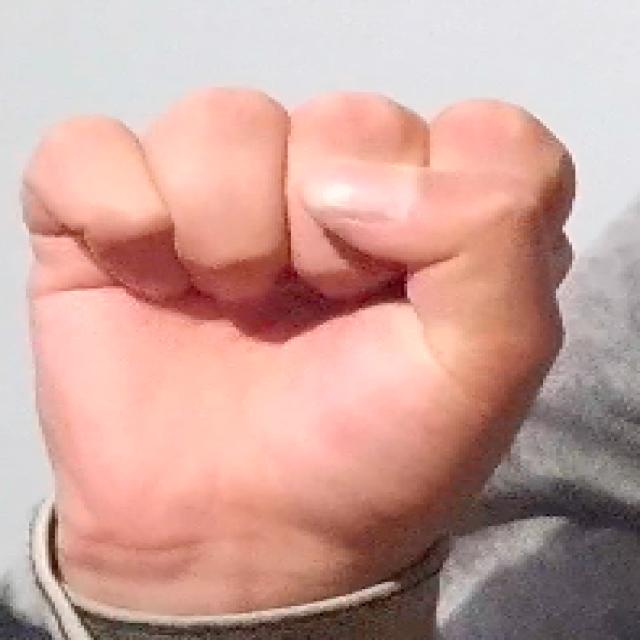S: (13, 81, 583, 570)
